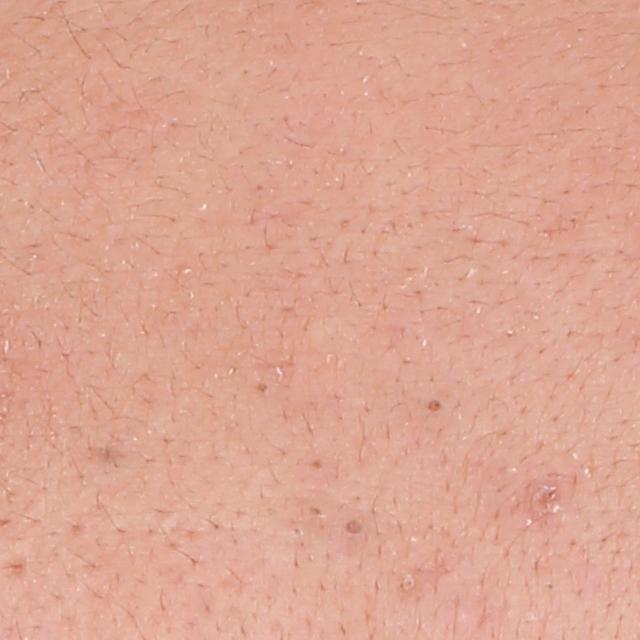comedo: (535, 485, 557, 509), (341, 517, 366, 537), (424, 396, 444, 416), (400, 573, 417, 596)
